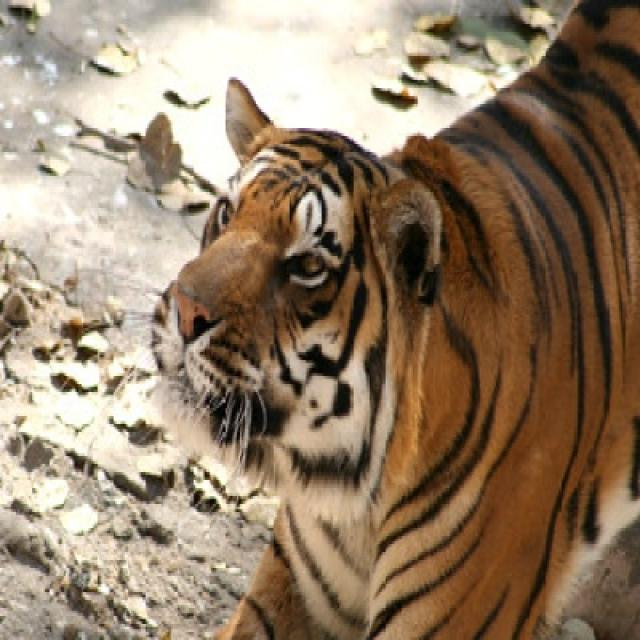Tiger: (152, 0, 638, 638)
